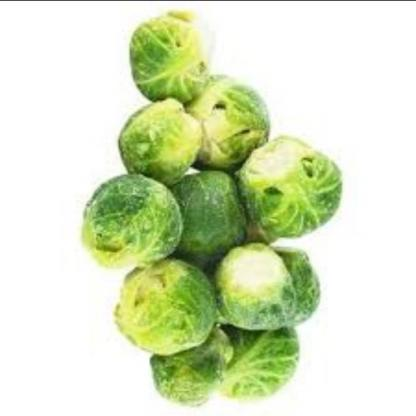brus capusta: (77, 0, 350, 405)
